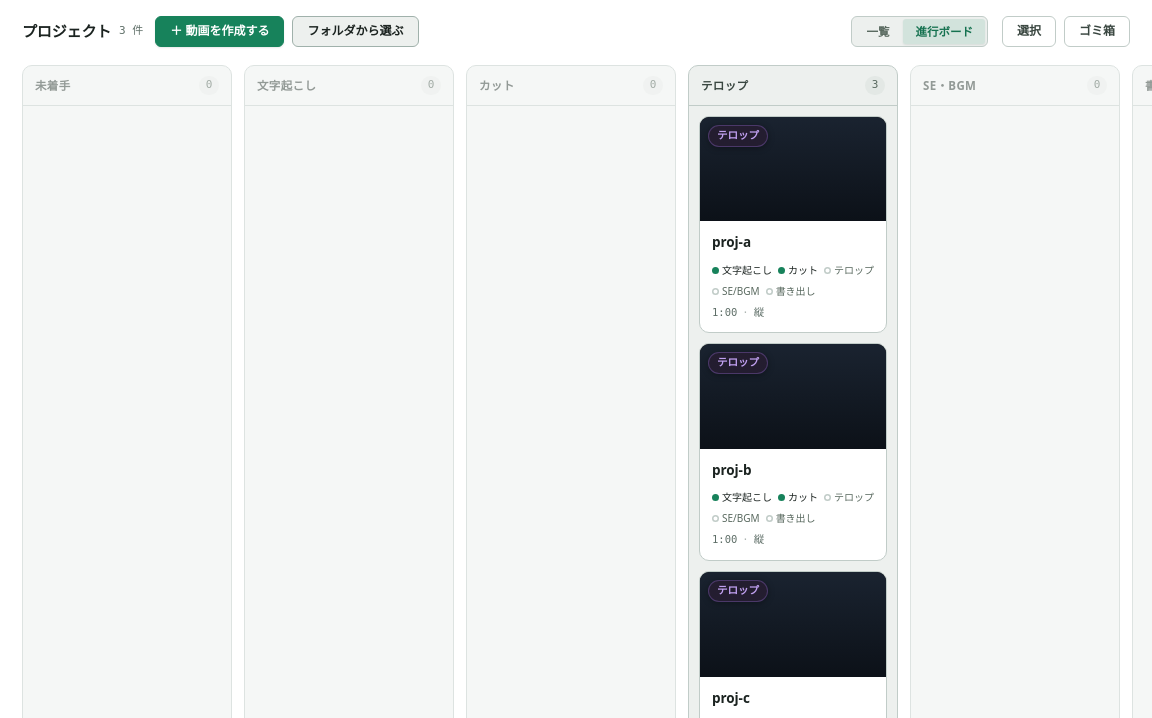
Test case: 進行ボードの選択モード › 確認ダイアログのキャンセルでは削除 API を呼ばない
Click the button "選択". click: (1029, 32)
box: left=1002, top=16, right=1056, bottom=47
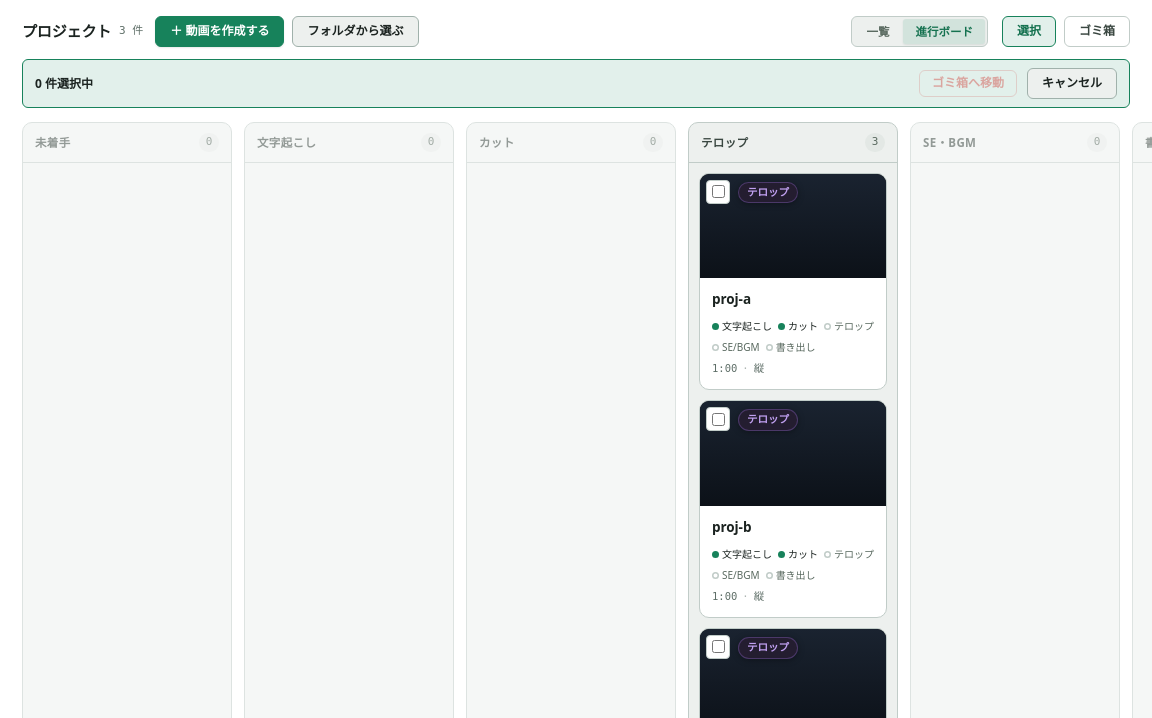
Click the button "proj-a". click: (793, 281)
box: left=699, top=172, right=887, bottom=390
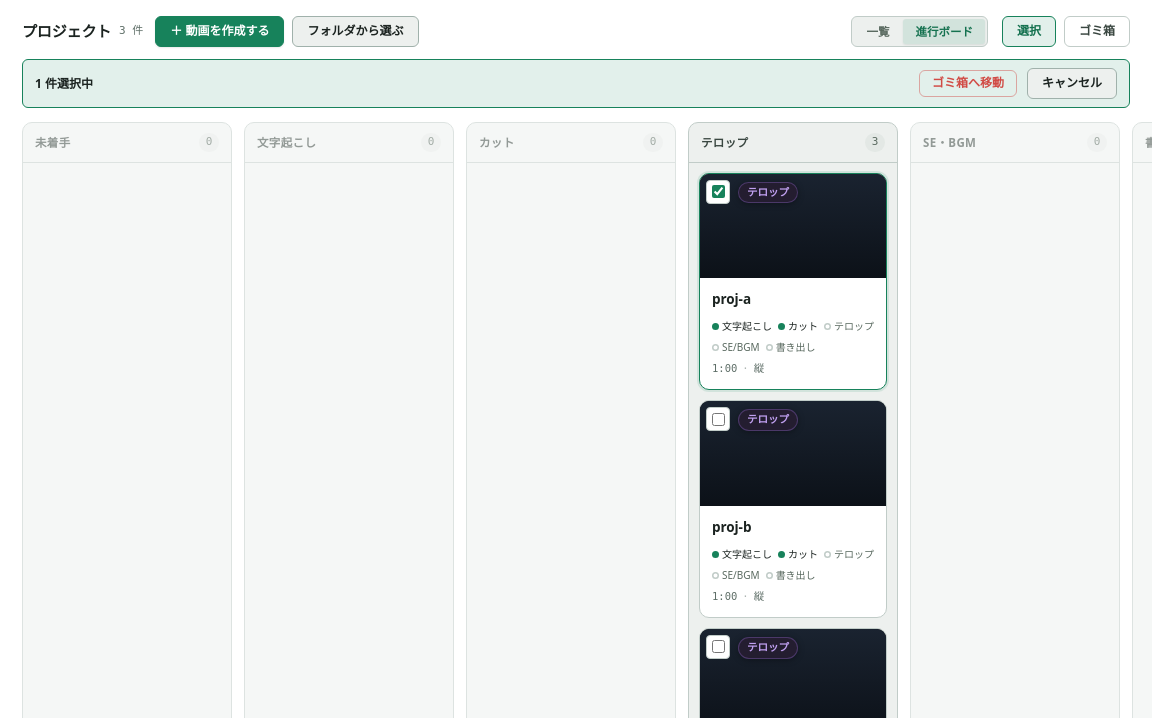
Click the button "ゴミ箱へ移動". click: (968, 84)
box: left=919, top=70, right=1017, bottom=97
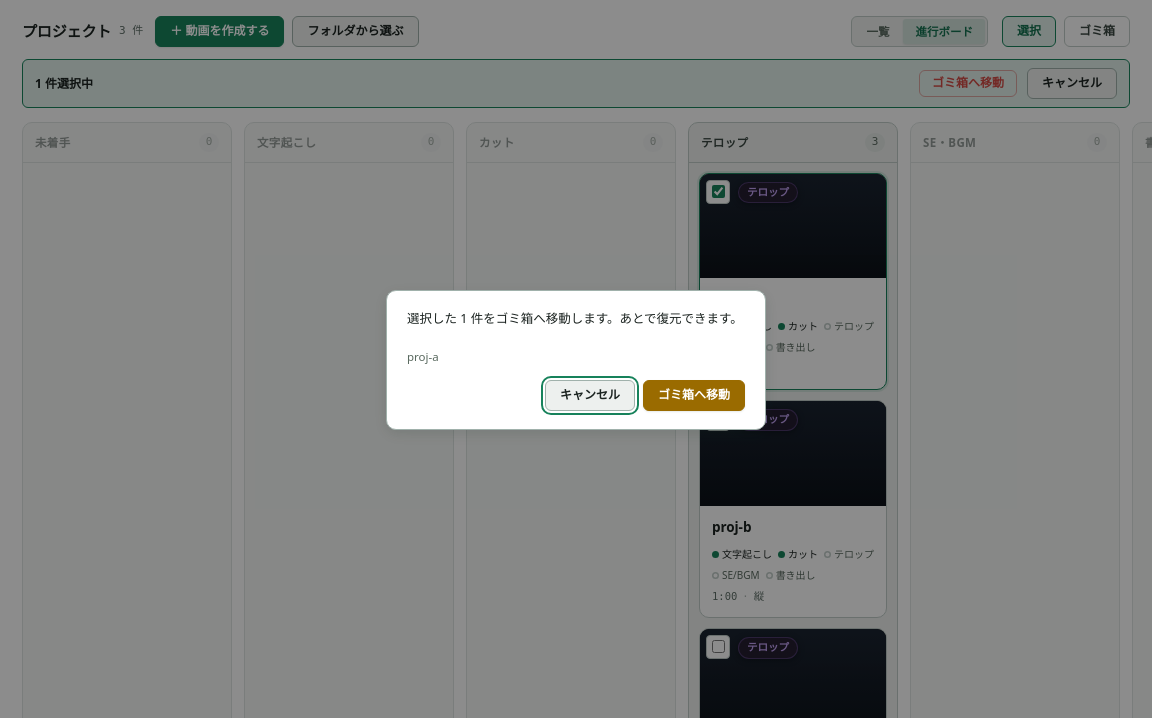
Click the button "キャンセル". click: (590, 396)
box: left=545, top=380, right=635, bottom=411
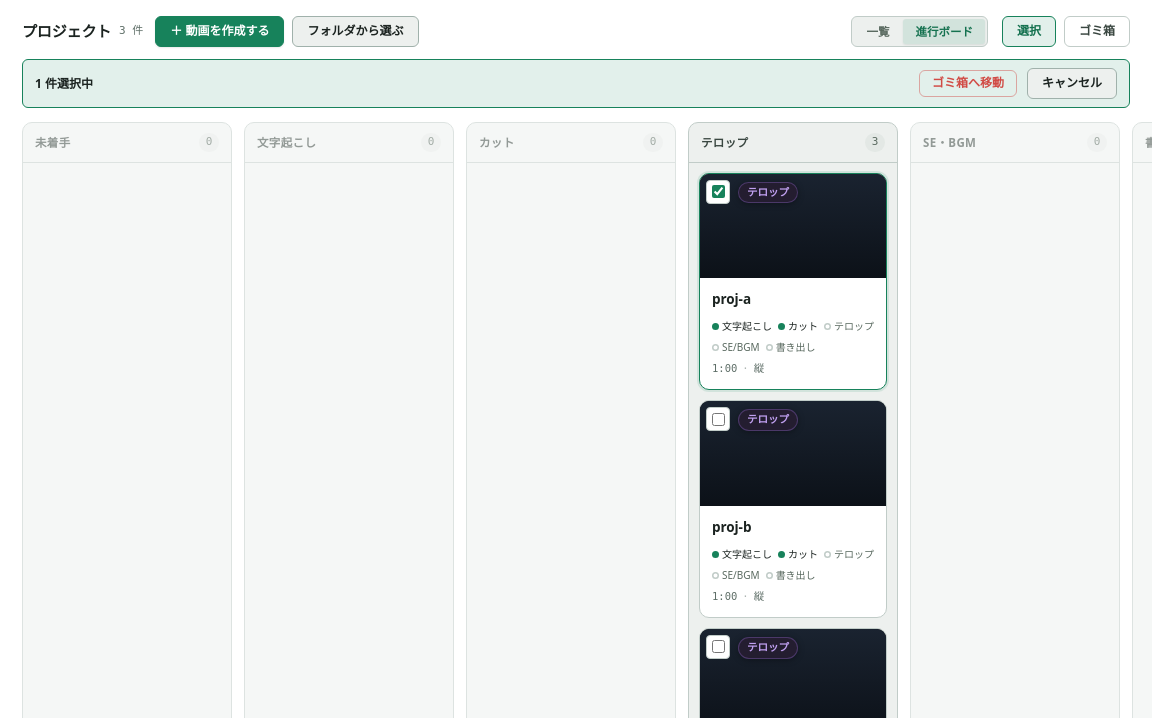
Check: the message with test id "home-select-bar" shows "1 件選択中", box left=22, top=59, right=1130, bottom=108
Check: the dialog with test id "trash-confirm-dialog" is gone
